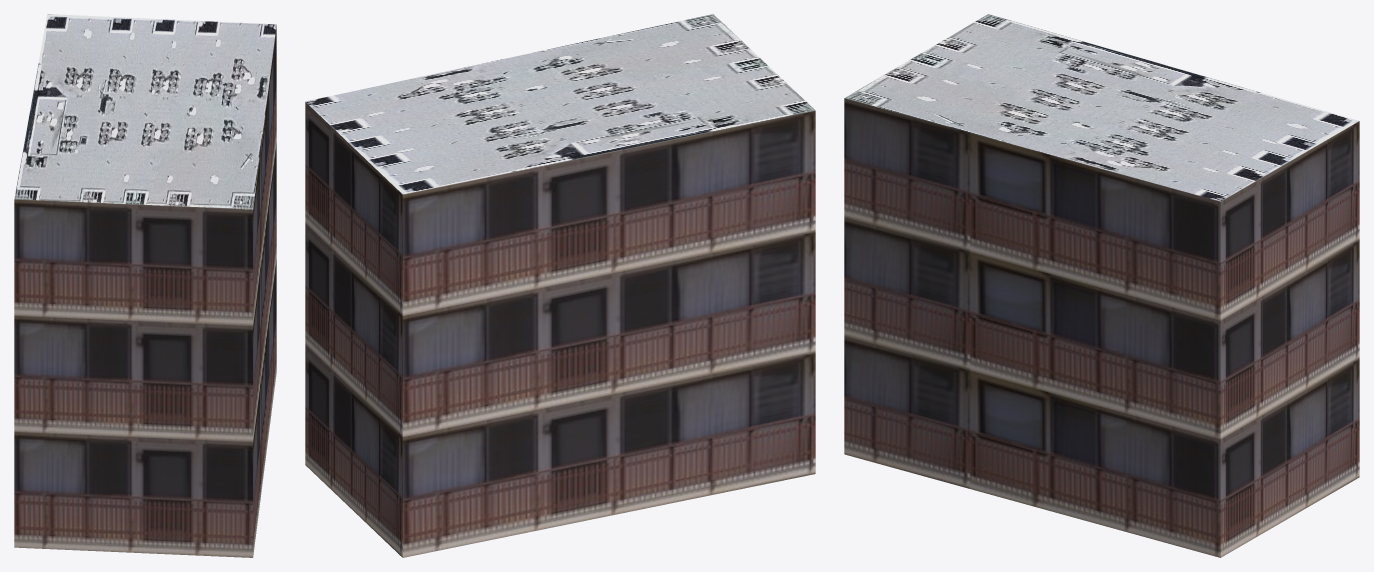
Rendered from ResTex__4511.fbx.
3 renders of one model, left to right at view 1: azimuth 30°, elevation 25°; view 2: azimuth 150°, elevation 25°; view 3: azimuth 270°, elevation 25°, orthographic. The views are drawn at different scales.
Visible parts, largest first — view 1: CityEngineMaterial_6_m, CityEngineMaterial_m; view 2: CityEngineMaterial_6_m, CityEngineMaterial_m; view 3: CityEngineMaterial_6_m, CityEngineMaterial_m.
Boxes of the visible parts, x1,y1,x2,y2 form: CityEngineMaterial_6_m: [14, 26, 276, 557]; CityEngineMaterial_m: [14, 14, 276, 209]; CityEngineMaterial_6_m: [305, 102, 815, 557]; CityEngineMaterial_m: [305, 14, 815, 194]; CityEngineMaterial_6_m: [844, 98, 1359, 557]; CityEngineMaterial_m: [845, 14, 1358, 201].
Bounding box in the file's own units: 10.16 × 9 × 11.79.
Materials: 2 (2 with a texture image).
